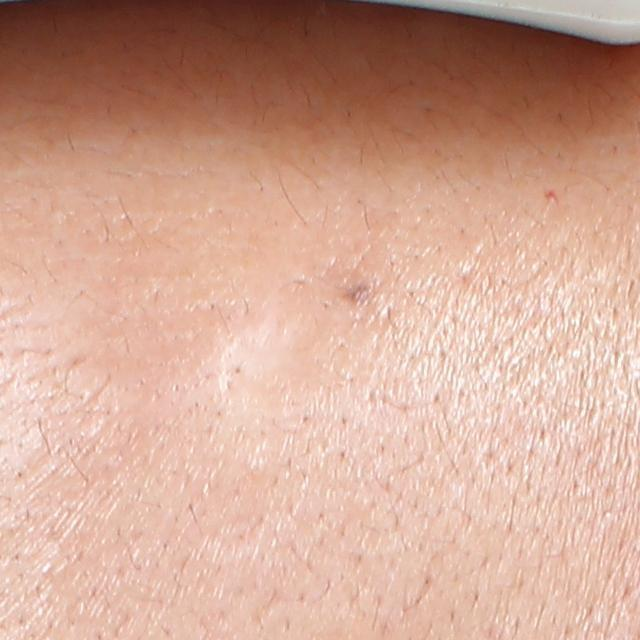nevus: (341, 275, 376, 309)
other: (212, 305, 349, 428)
